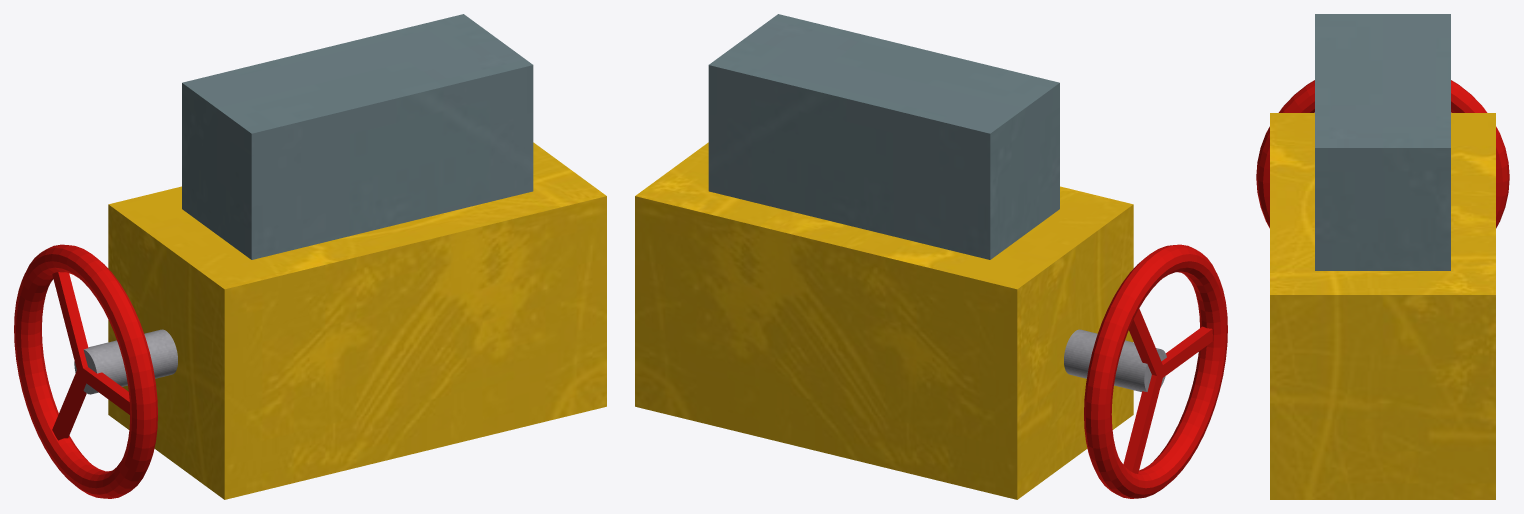
The model's file is rotor_lock.glb.
3 views of the same model, side by side, from view 1: azimuth 30°, elevation 25°; view 2: azimuth 150°, elevation 25°; view 3: azimuth 270°, elevation 25° (orthographic). The views are drawn at different scales.
Visible parts, largest first — view 1: rotor_lock; view 2: rotor_lock; view 3: rotor_lock.
Part boxes in pixels (x1,y1,x2,y2): rotor_lock: (14, 14, 606, 499); rotor_lock: (635, 14, 1227, 499); rotor_lock: (1256, 14, 1509, 499).
Size of the model in its own units: 0.472 by 0.332 by 0.224.
4 materials, 3 textured.
